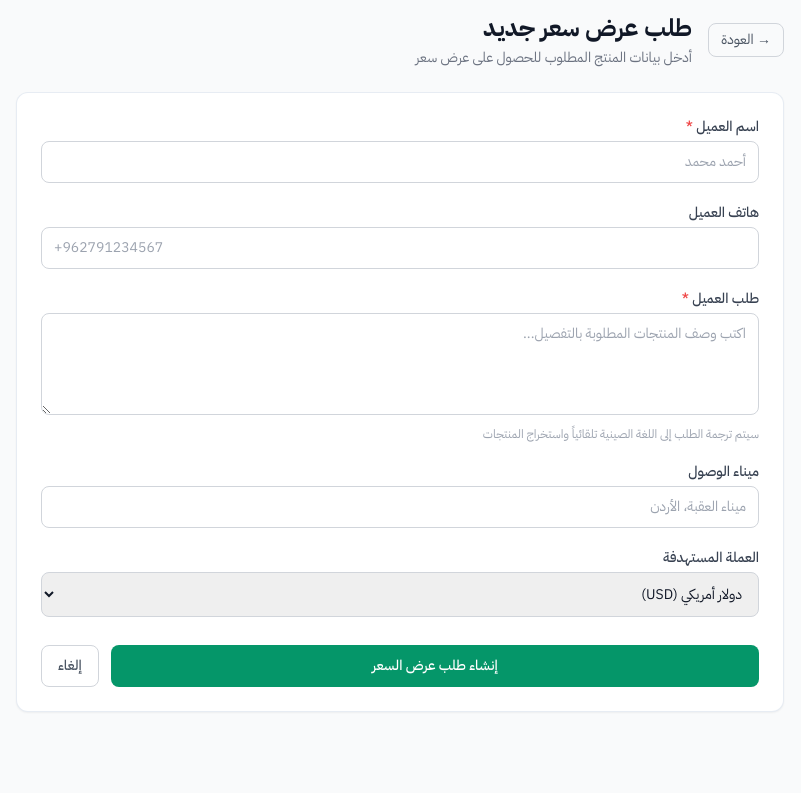
Test case: RFQCreatePage › shows a validation error when the client request is empty
This screenshot has width=801, height=793.
Type "Ali Import Co." into the field with placeholder "أحمد محمد" at (400, 162), box [41,141,759,183]
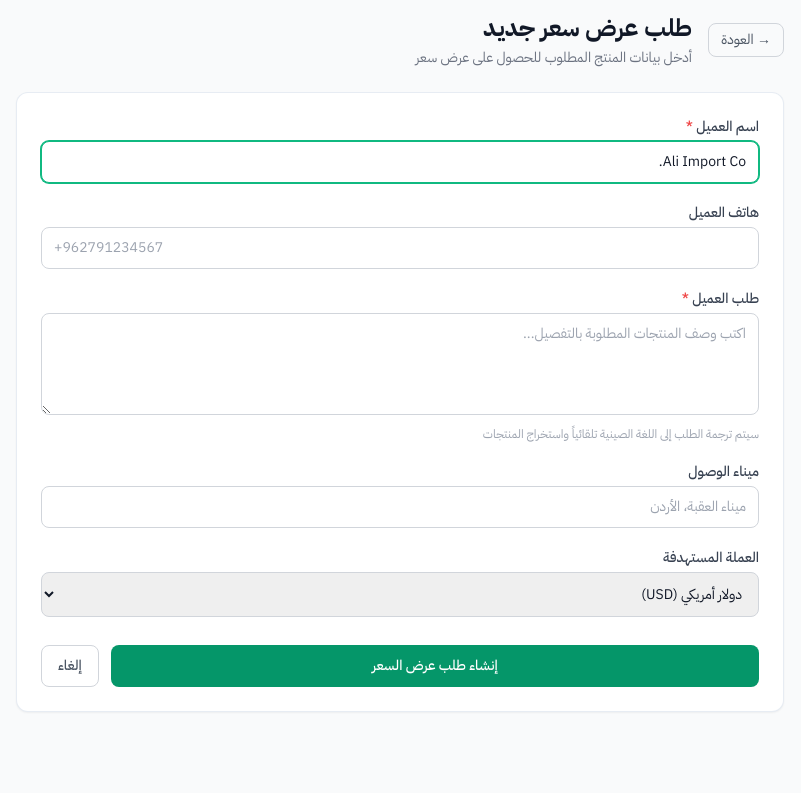
Click the button "إنشاء طلب عرض السعر" at (435, 666), box [111,645,759,687]
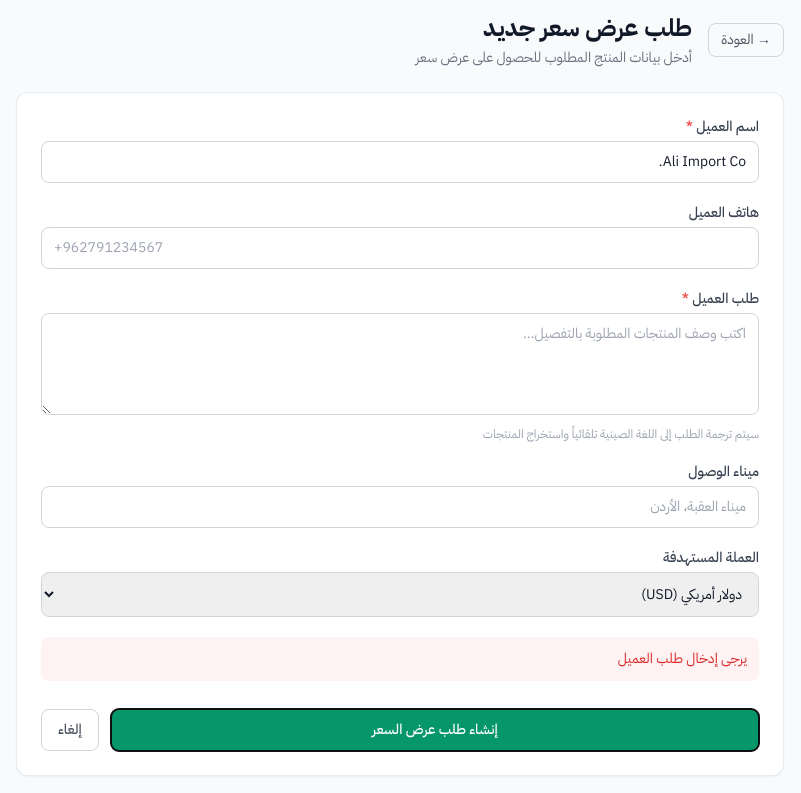
Expected: the text "يرجى إدخال طلب العميل" is shown, [41,637,759,681]
